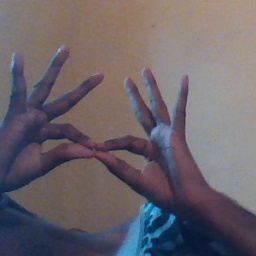B: (24, 88, 164, 188)
